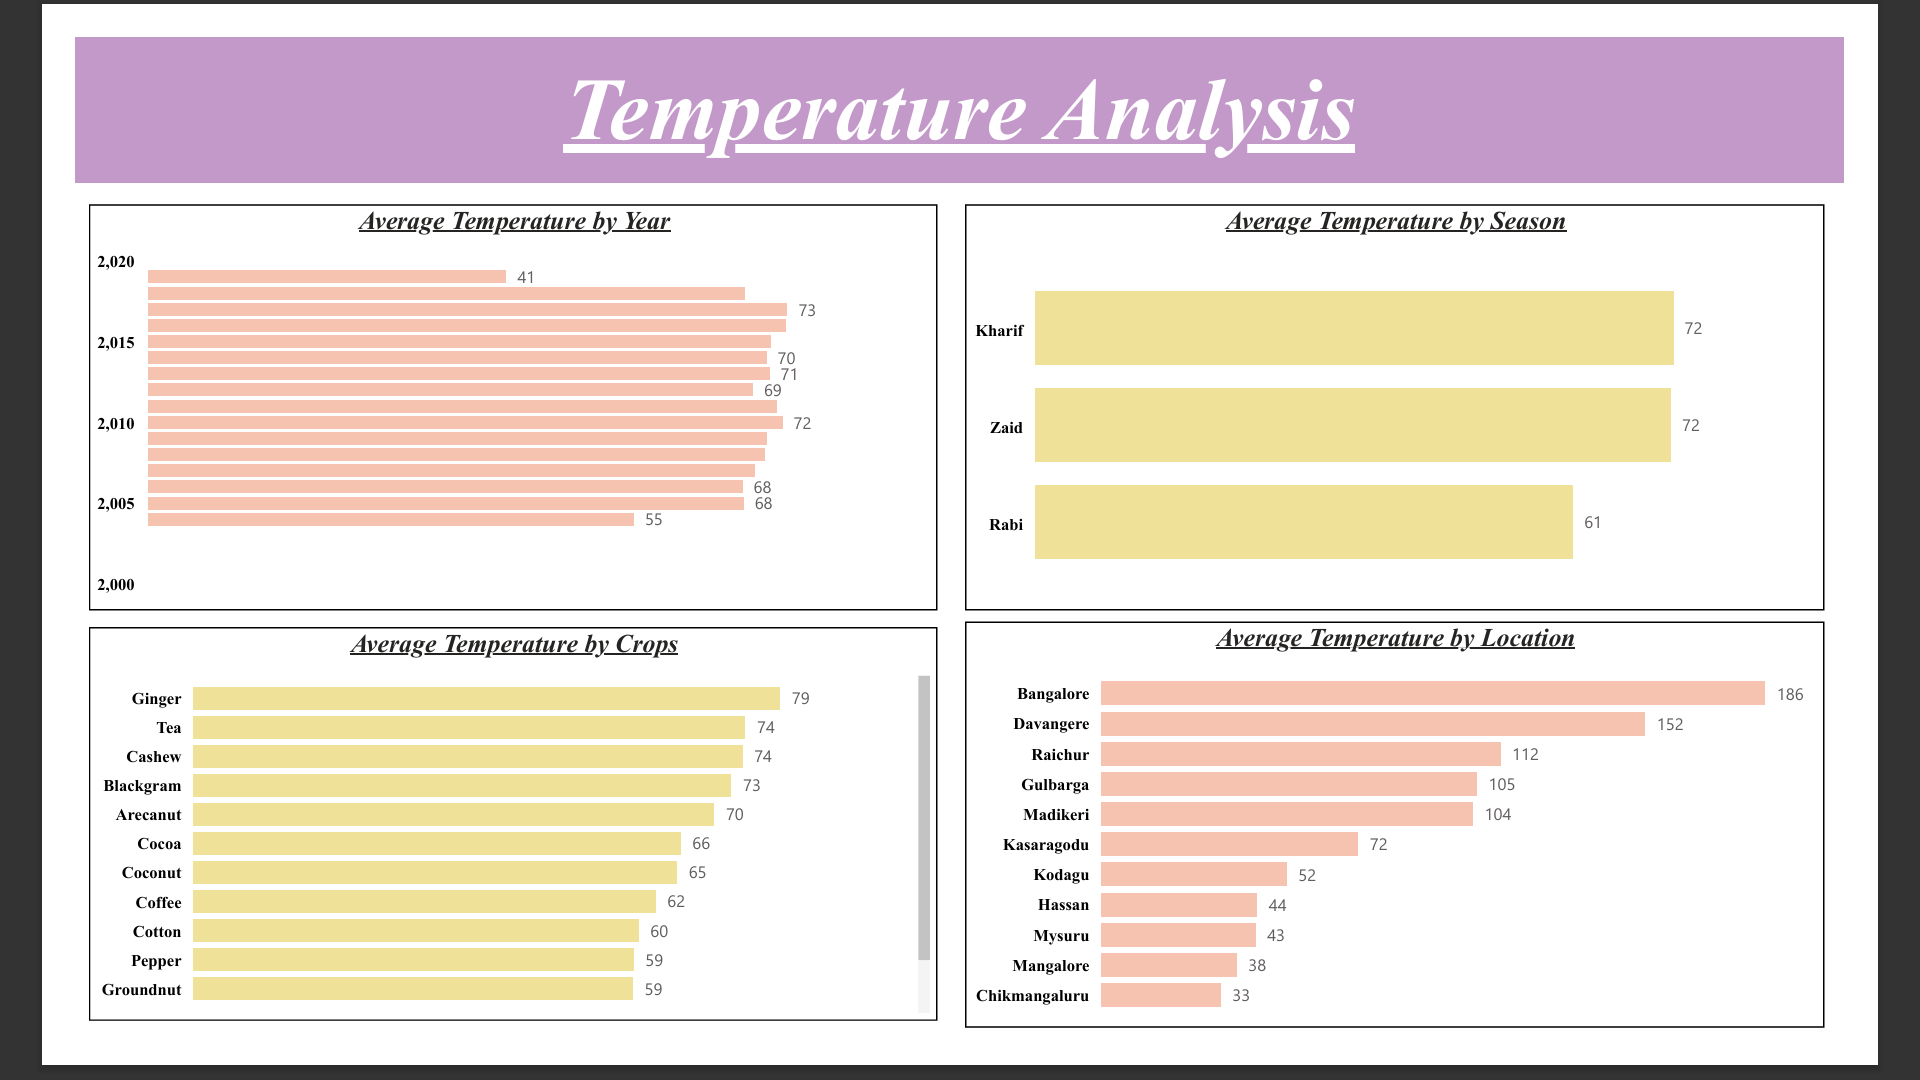

What the dashboard file says about the page in this screenshot:
{"tool":"powerbi","page":{"name":"Temperature Analysis","canvas":[1280,720],"ordinal":1},"visuals":[{"type":"shape","box":[0,0,1280.3,105.2],"z":0},{"type":"barChart","title":"Average Temperature by Year","fields":{"Category":["AGGRICULTURE.YEAR"],"Y":["Avg(AGGRICULTURE.TEMPERATURE)"]},"box":[9.8,121.1,613.9,293.5],"z":1000},{"type":"barChart","title":"Average Temperature by Season","fields":{"Category":["AGGRICULTURE.SEASON"],"Y":["Avg(AGGRICULTURE.TEMPERATURE)"]},"box":[644.4,121.1,621.2,293.5],"z":2000},{"type":"barChart","title":"Average Temperature by Crops","fields":{"Category":["AGGRICULTURE.CROPS"],"Y":["Avg(AGGRICULTURE.TEMPERATURE)"]},"box":[9.8,426.8,613.9,284.9],"z":3000},{"type":"barChart","title":"Average Temperature by Location","fields":{"Category":["AGGRICULTURE.LOCATION"],"Y":["Avg(AGGRICULTURE.TEMPERATURE)"]},"box":[644.4,423.1,621.2,293.5],"z":4000}]}

Visuals, with their boxes in screenshot pixels (x1, y1, x2, y2), scaled from the page's 1280x720 canvas onto the 1920x1080 screenshot:
shape: 0 0 1919 158
"Average Temperature by Year" barChart: 15 182 936 622
"Average Temperature by Season" barChart: 967 182 1898 622
"Average Temperature by Crops" barChart: 15 640 936 1068
"Average Temperature by Location" barChart: 967 635 1898 1075
